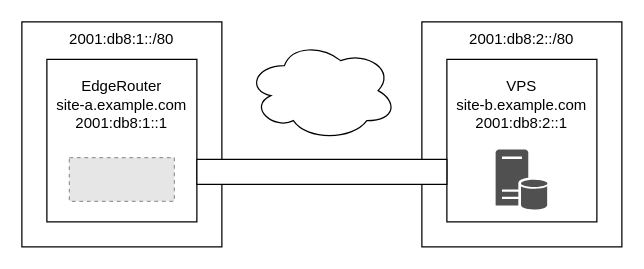
Some shapes in this 644 by 269 pixel diagram are drawn without their labels. Grey dashed boxes stand in for pictures. Each missing label, with the centre of its shape:
"Internet" belongs at pixel 321 90.
"IPsec over IPv6" belongs at pixel 321 171.
